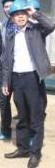boots: (4, 148, 30, 157), (0, 111, 8, 121)
hard-hat: (8, 0, 29, 13)
